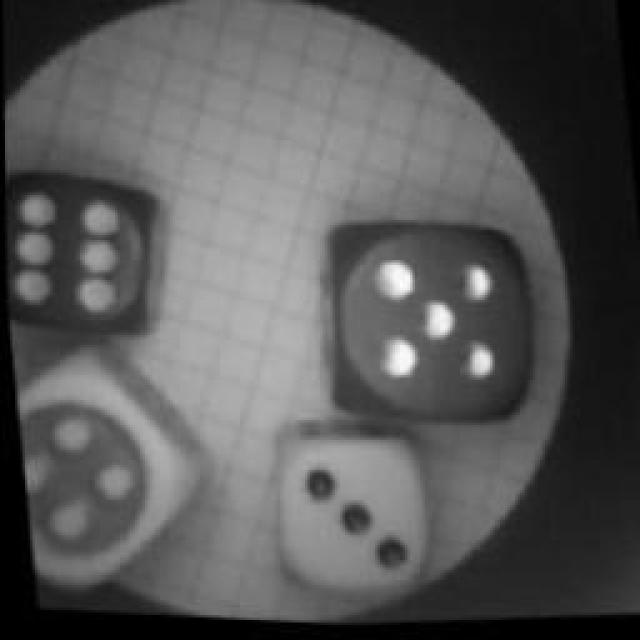dice_3: (256, 416, 446, 616)
dice_4: (8, 337, 218, 605)
dice_5: (297, 201, 555, 451)
dice_6: (2, 156, 186, 356)
